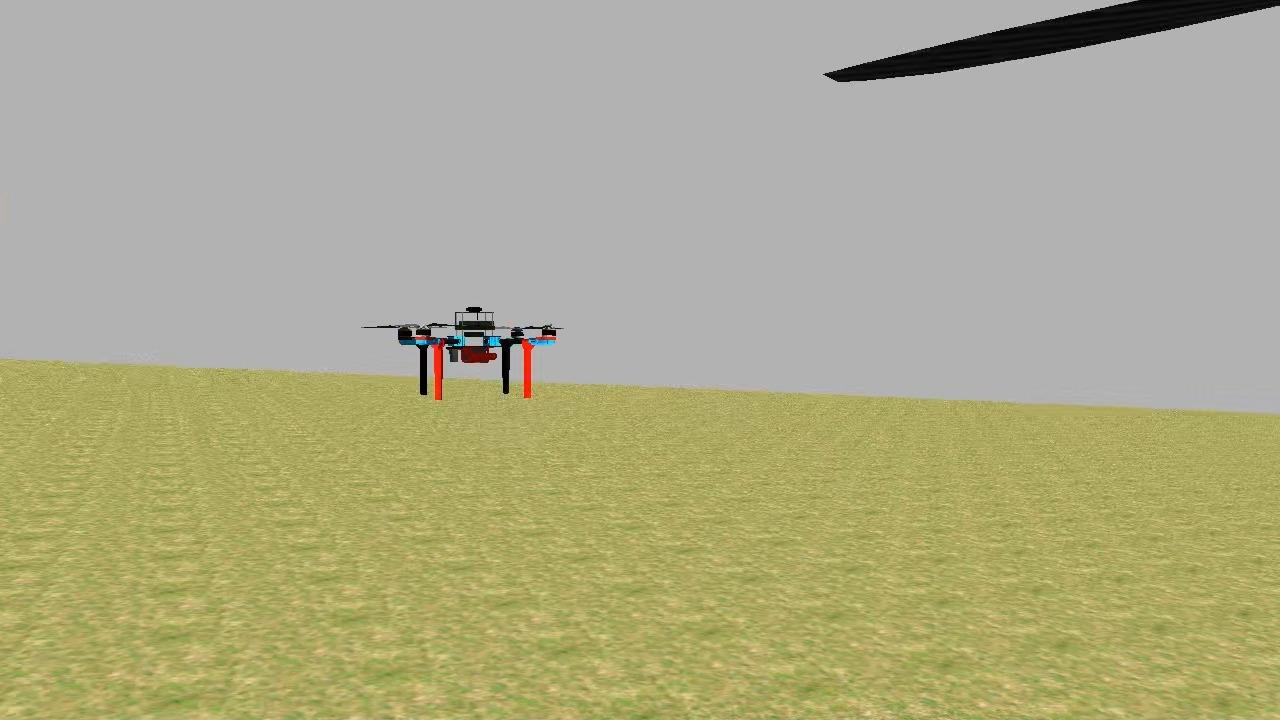UAV: (396, 300, 560, 402)
